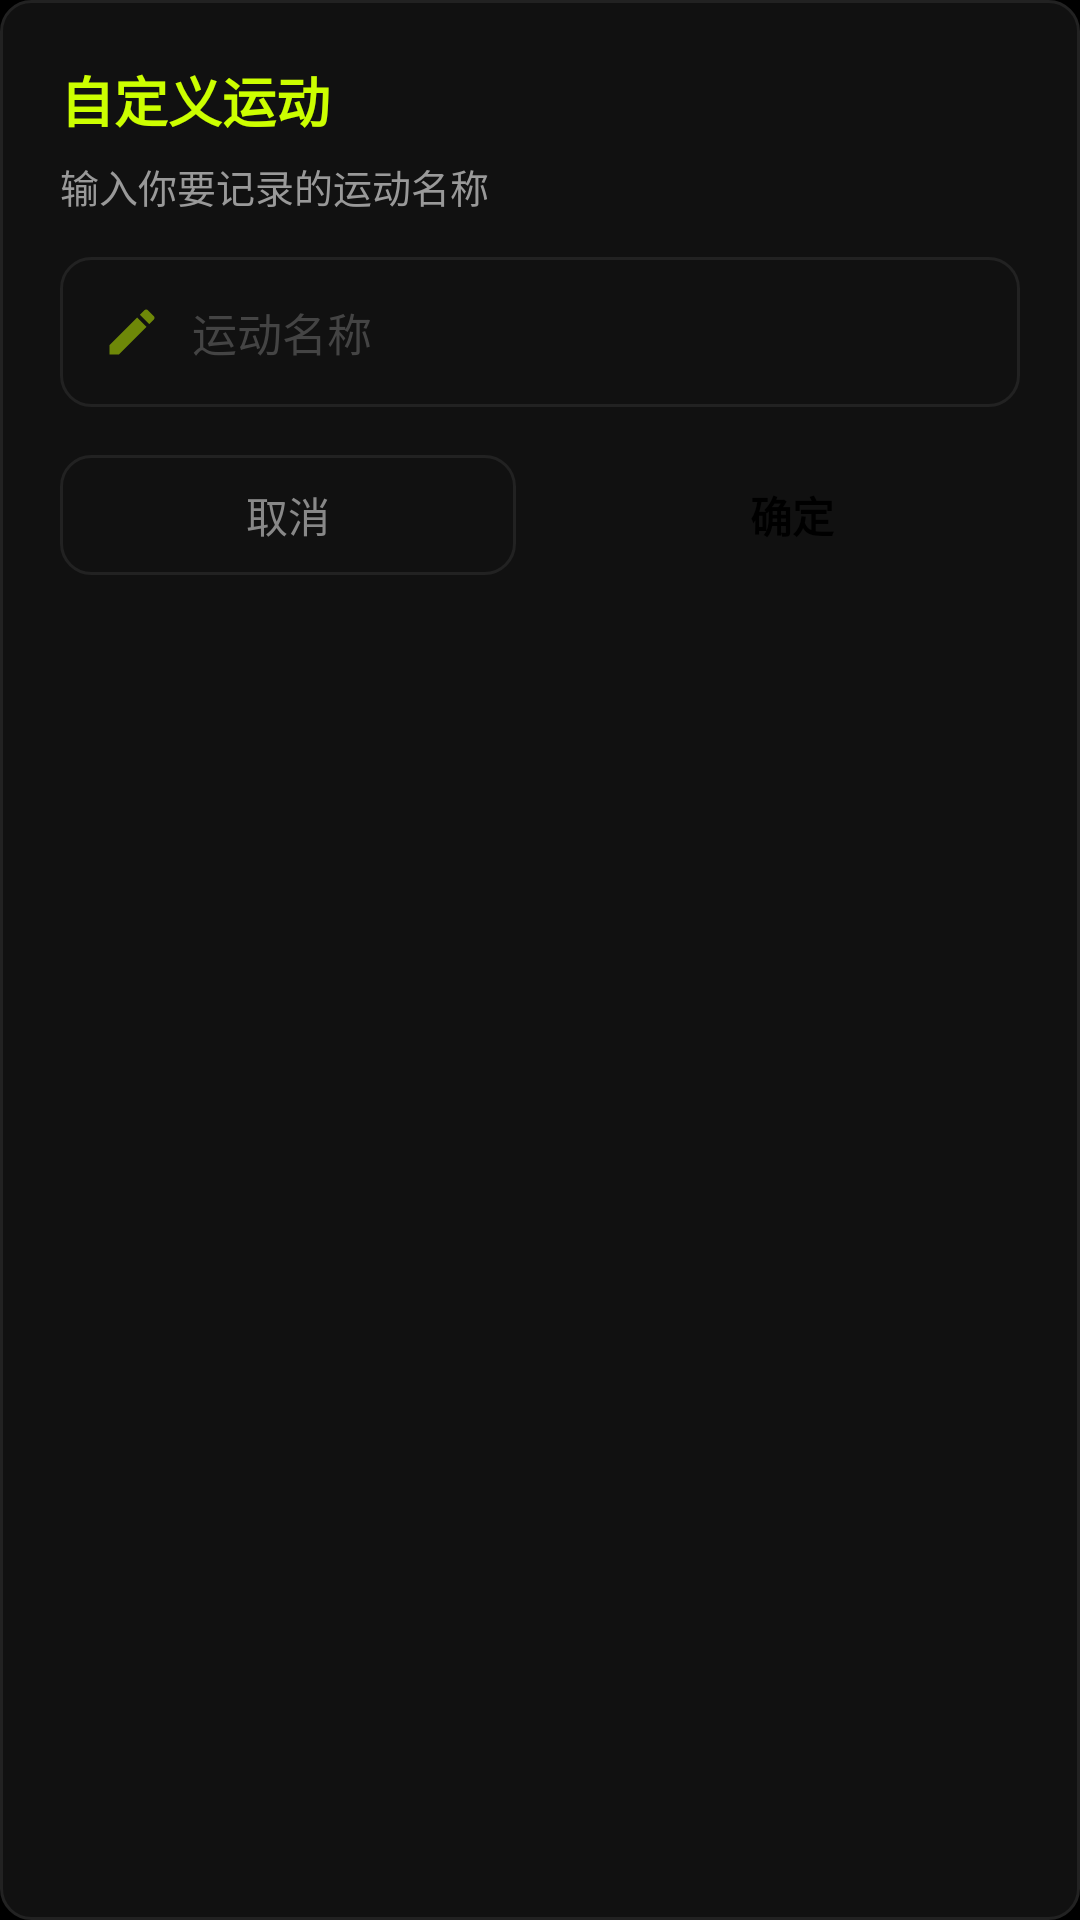

Screen size 1080px×1920px. Icon name, then its center in pixels as (x,y):
edit: (132,332)
